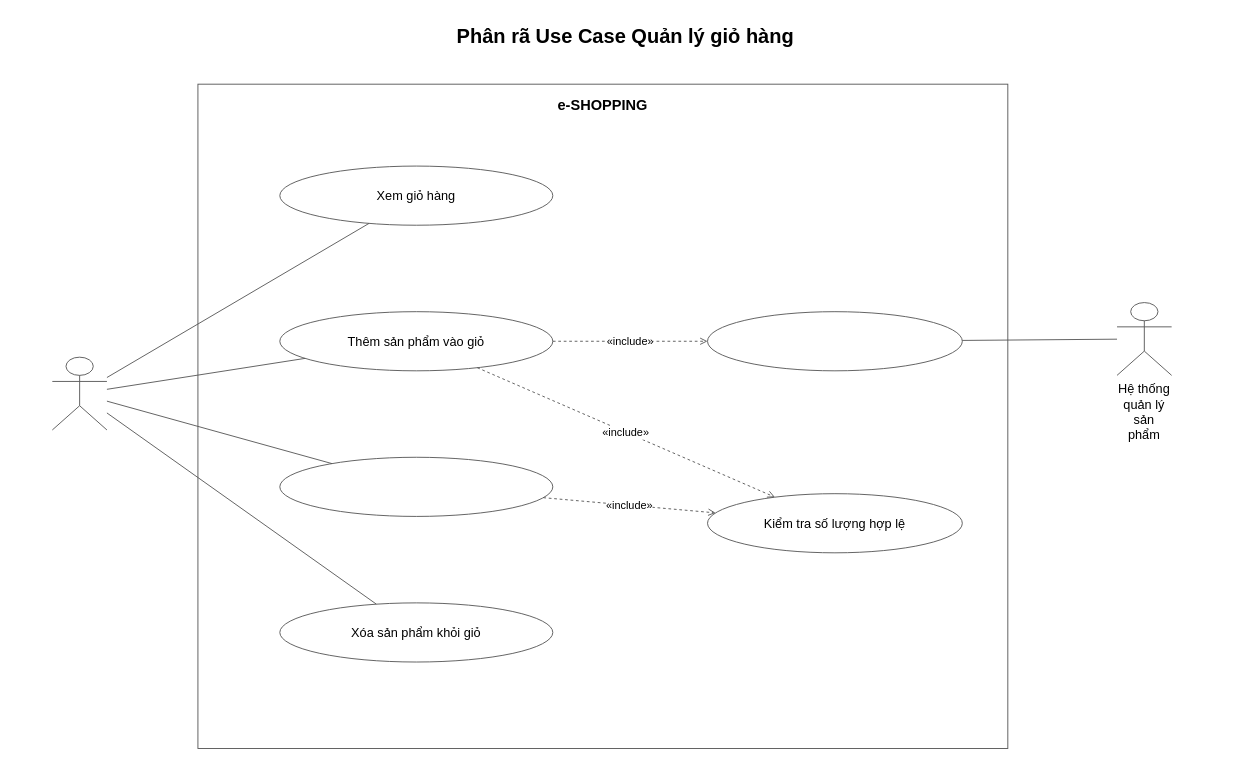
Some shapes in this 1250 by 764 pixel diagram are drawn without their labels. Each missing label, with the centre of its shape:
"Cập nhật số lượng" goes at (x=416, y=486).
"Khách hàng" goes at (x=79, y=393).
"Kiểm tra sản phẩm khả dụng" goes at (x=834, y=341).
